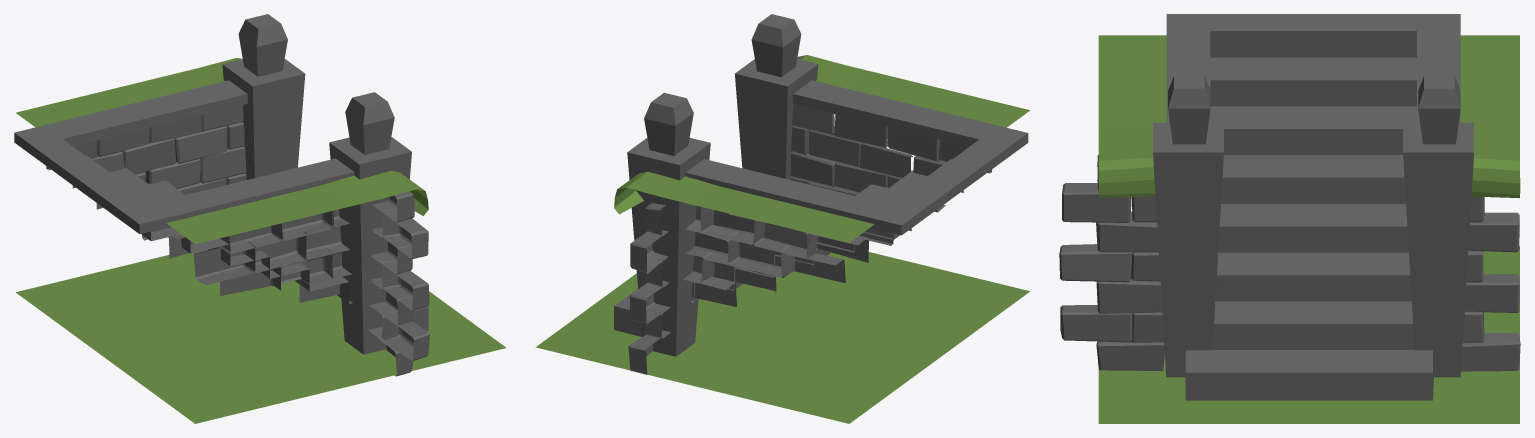
Rendered from stairs.fbx.
3 views of the same model, side by side, from view 1: azimuth 30°, elevation 25°; view 2: azimuth 150°, elevation 25°; view 3: azimuth 270°, elevation 25° (orthographic). The views are drawn at different scales.
Parts seen in each view (by area): view 1: Cube.026; view 2: Cube.026; view 3: Cube.026.
Boxes of the visible parts, x1=… form: Cube.026: x1=14, y1=14, x2=506, y2=423; Cube.026: x1=535, y1=14, x2=1029, y2=423; Cube.026: x1=1059, y1=14, x2=1520, y2=423.
Size of the model in its own units: 217 by 219 by 156.
